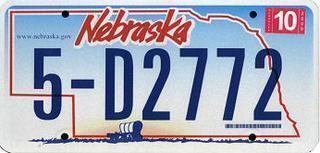placa de veiculo: (4, 8, 316, 152)
